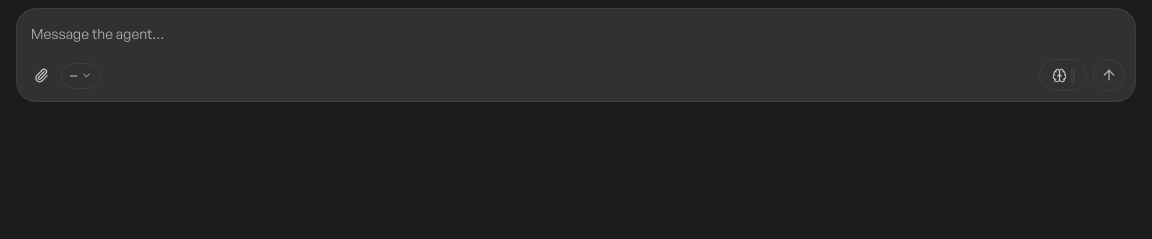
Scenario: Composer › effort chip › a ladder with a 'default' entry (Hermes over ACP) › names 'default' under the slider instead of the slider's first stop
Click the button with test id "effort-chip": (1063, 75) [1039,59,1087,91]
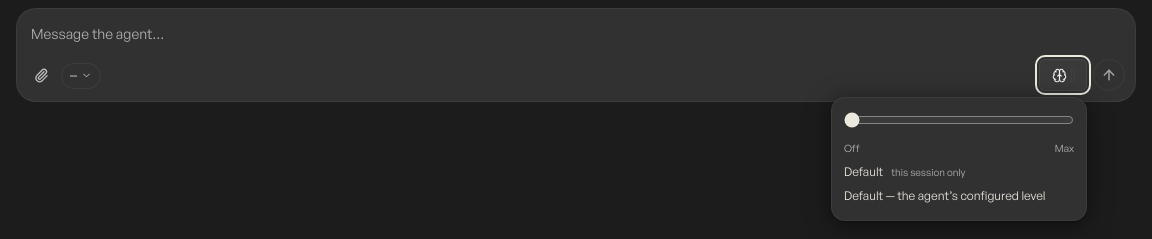
Check: the text with test id "effort-slider-value" reads "Default", box [844,164,883,179]
Note: Dragging previews a real level again.
Set the slider with test id "effort-slider" to "2": (923, 120) [844,112,1074,128]
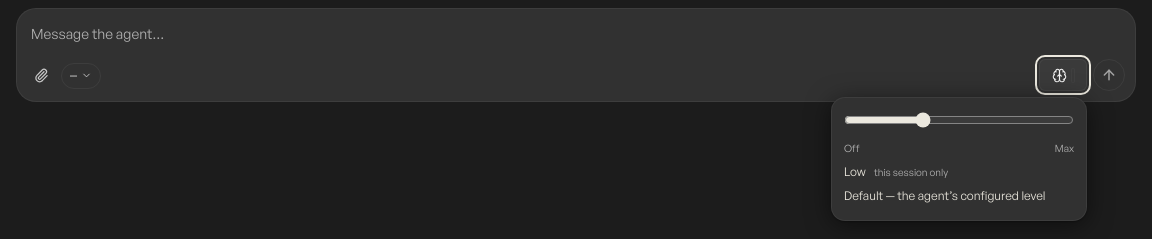
Check: the text with test id "effort-slider-value" reads "Low", box [844,164,866,179]
